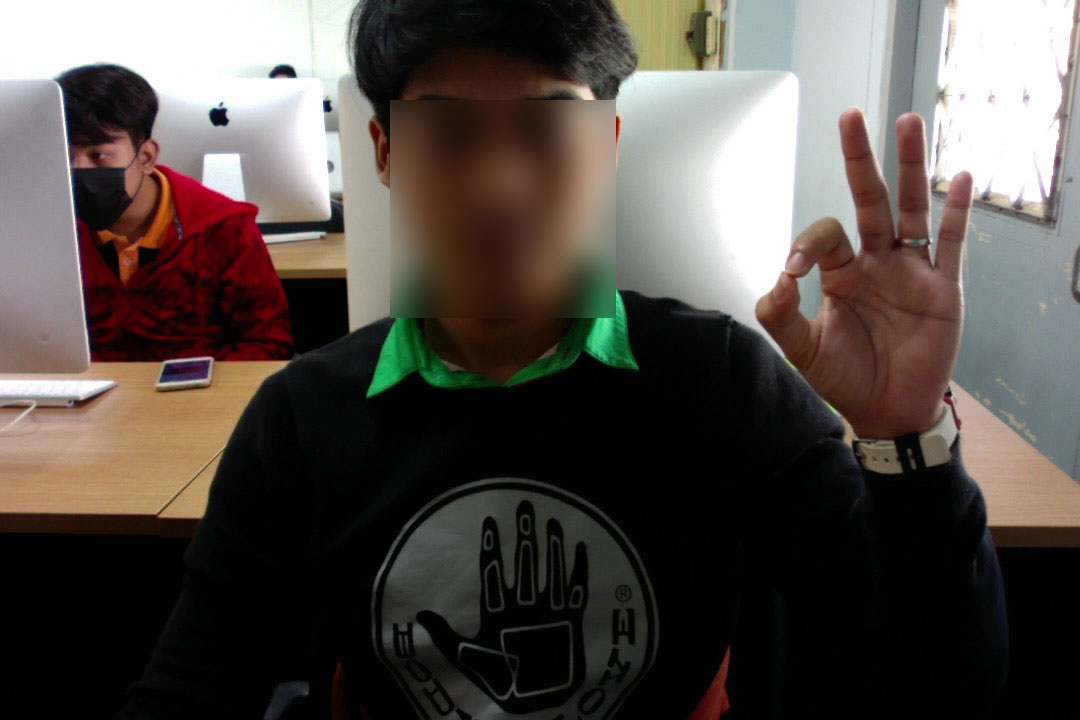for: (746, 91, 992, 468)
